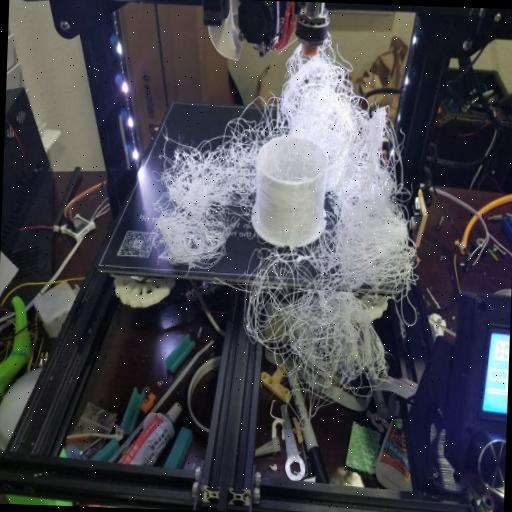spaghetti: (260, 49, 421, 396), (150, 100, 263, 266)
